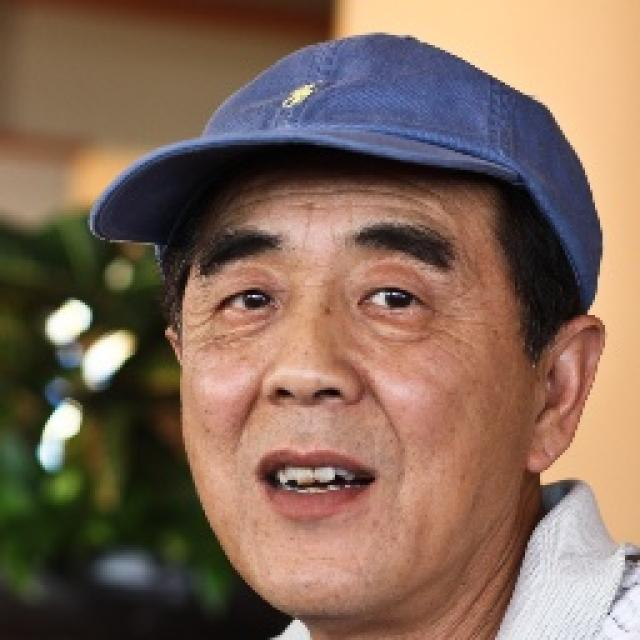earlobe: (526, 417, 566, 474)
eye: (359, 286, 432, 316), (214, 290, 281, 314)
nose: (264, 392, 362, 444)
wholeear: (527, 313, 608, 473), (167, 321, 182, 365)
